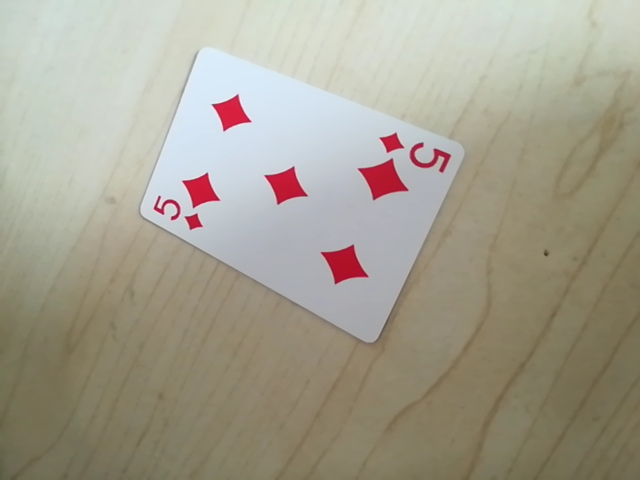fk 5: (373, 129, 455, 169), (149, 194, 210, 233)
